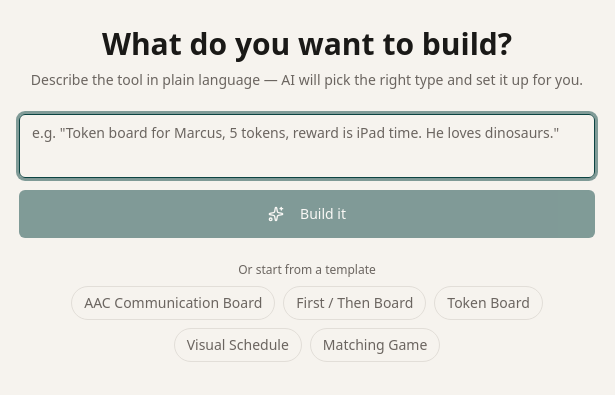
Test: ToolEntryPage › shows error message when API fails
Replace the text in the text box with "token board for Marcus" at (307, 146), box [19, 114, 595, 178]
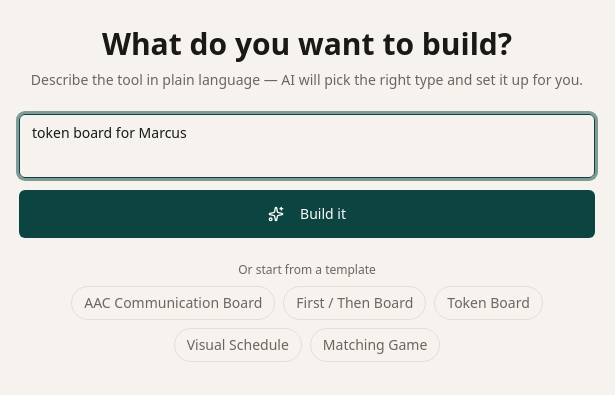
Click the button "Build it" at (307, 214), box [19, 190, 595, 238]
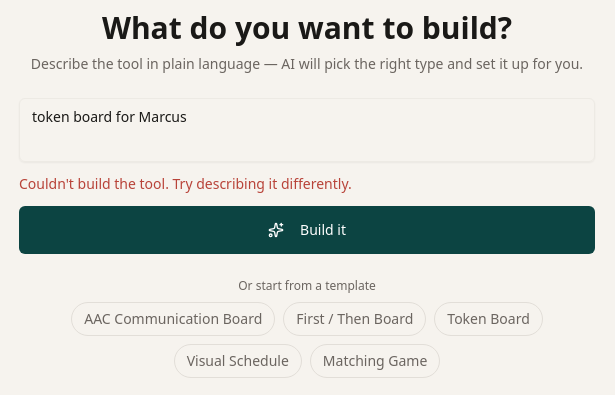
expect the text "Couldn't build the tool. Try describing it differently." is shown: met, box [19, 174, 352, 193]
